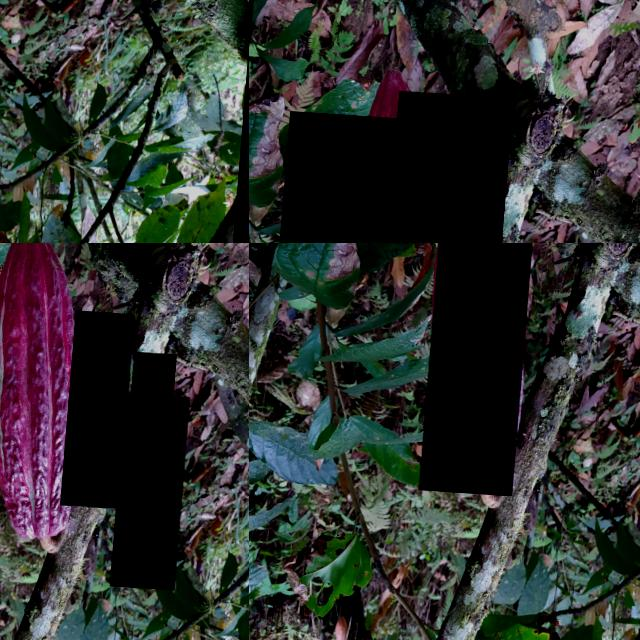Sana: (426, 243, 539, 491), (264, 108, 437, 243), (382, 87, 515, 243), (119, 388, 195, 584), (68, 306, 138, 504), (133, 346, 181, 428), (64, 366, 93, 467)
